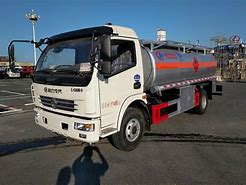oil truck: (10, 18, 223, 144)
